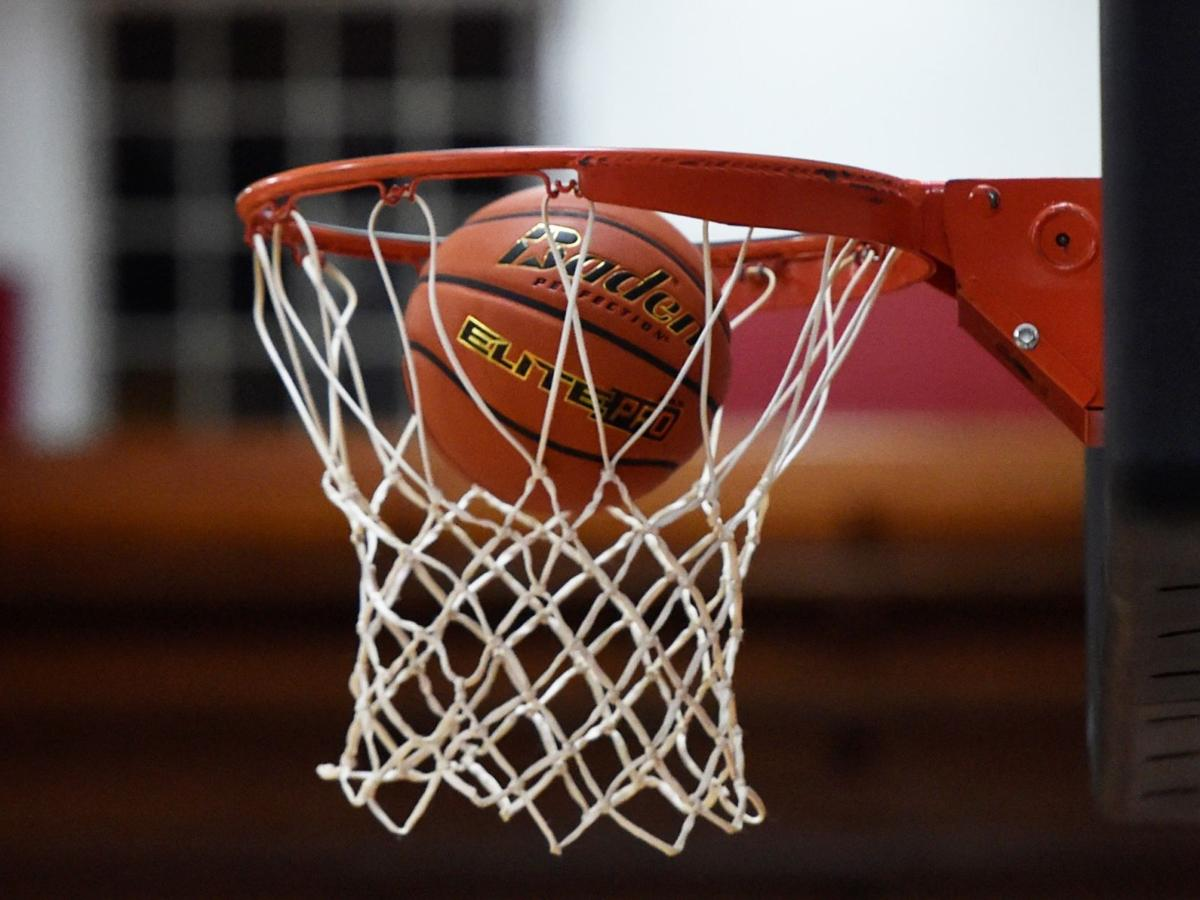MadeBasket: (237, 147, 936, 855)
